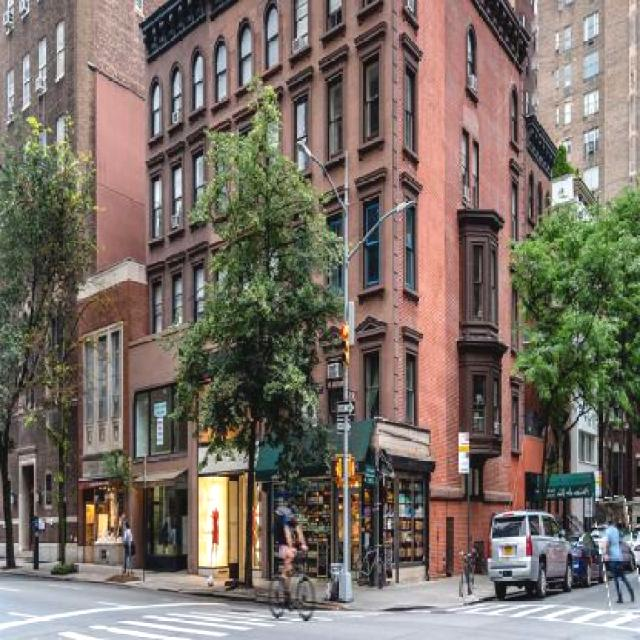Person: (597, 497, 640, 617)
